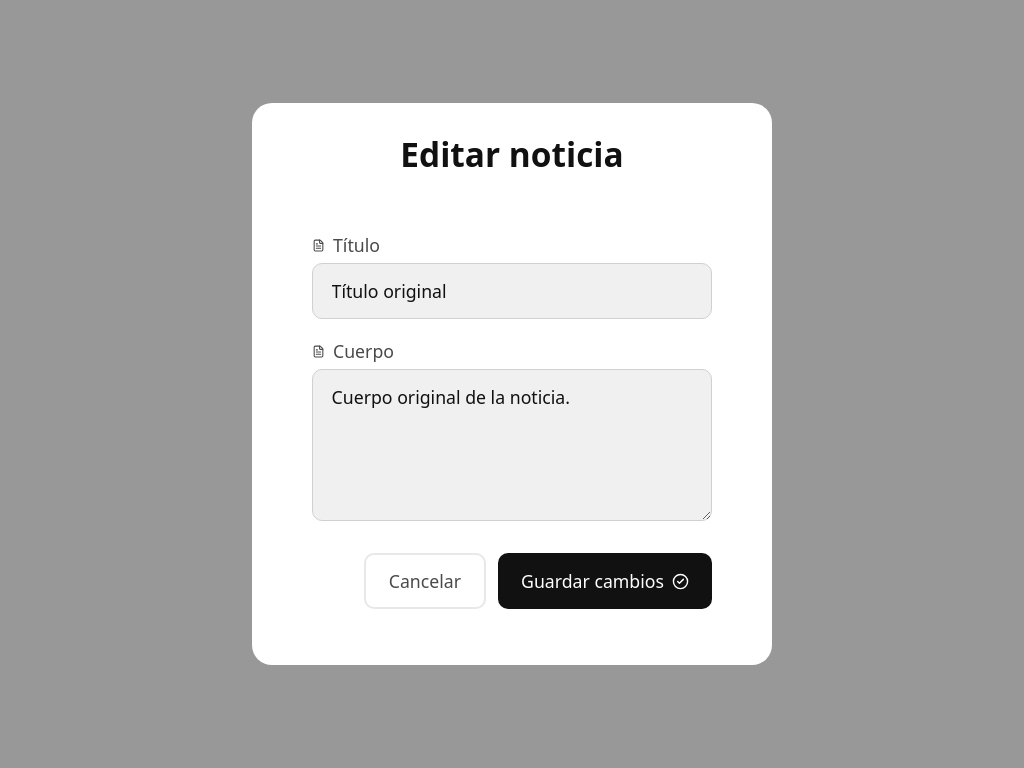
Test case: EditNoticiaForm › muestra mensaje de error si falla el servicio (servicio-no-disponible)
The image size is (1024, 768).
Click the button "Guardar cambios" at (605, 581), box [498,553,712,609]
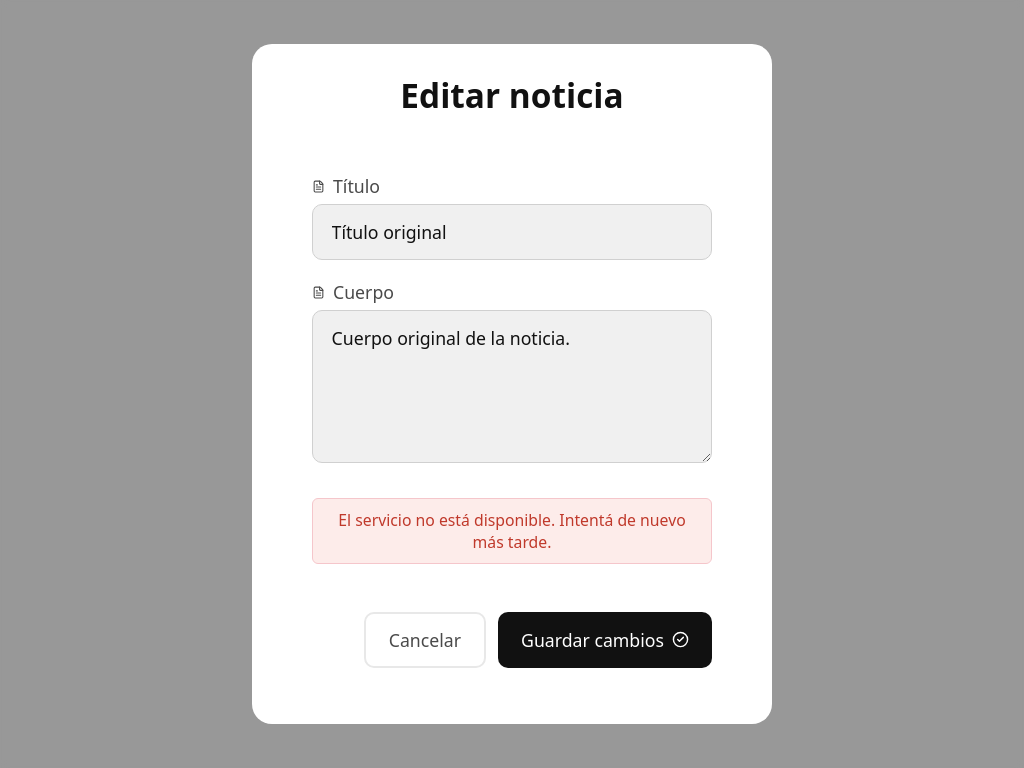
Expected: the message shows "no está disponible", [338,509,686,553]
